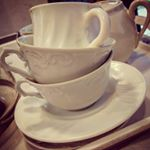cups: (14, 46, 118, 114), (1, 33, 119, 87), (24, 1, 117, 50)
